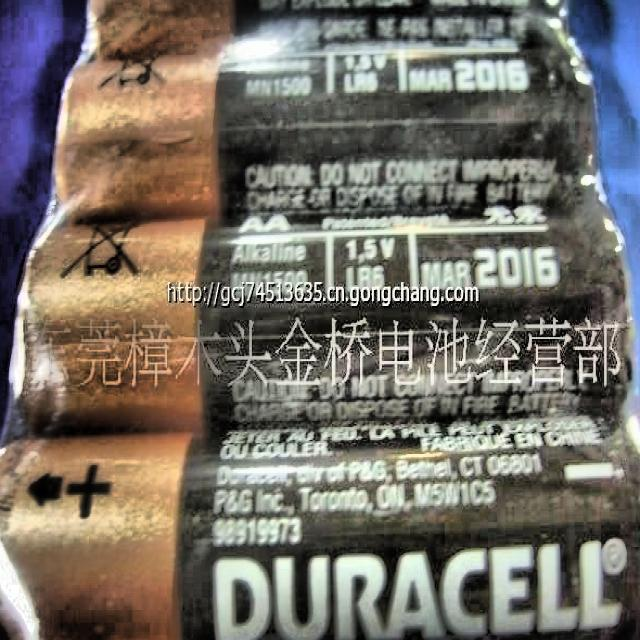Non-Valuable Waste - Batteries: (13, 182, 634, 431), (0, 416, 640, 640), (55, 0, 604, 223)
